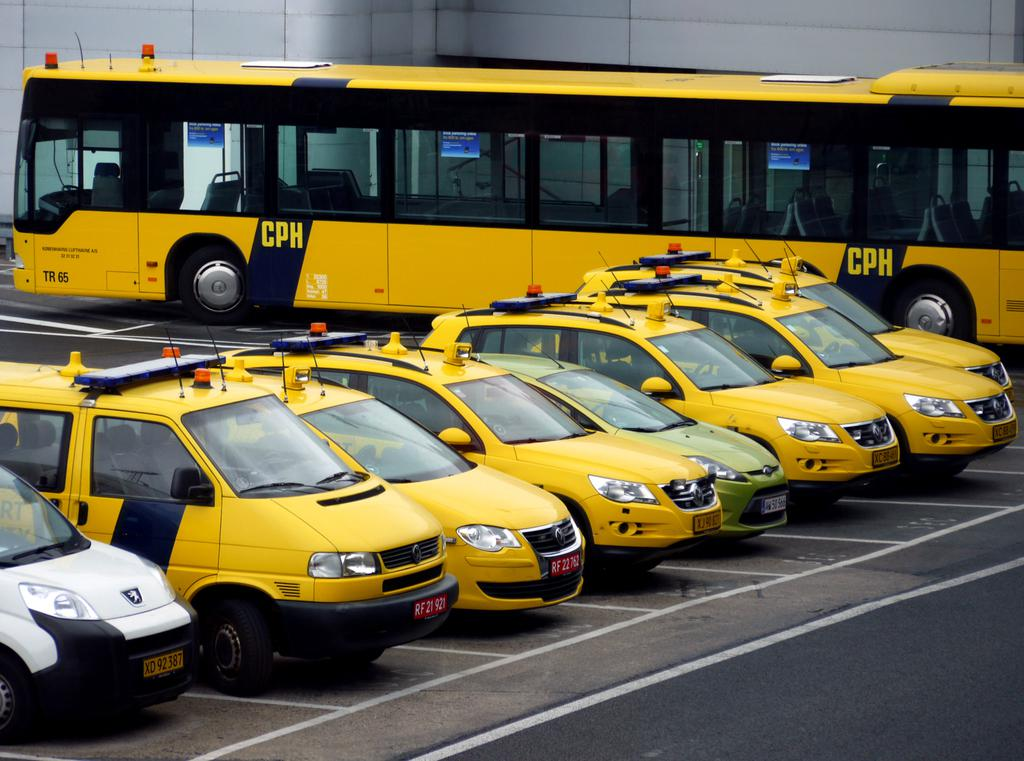taxi: (1, 235, 1018, 697)
